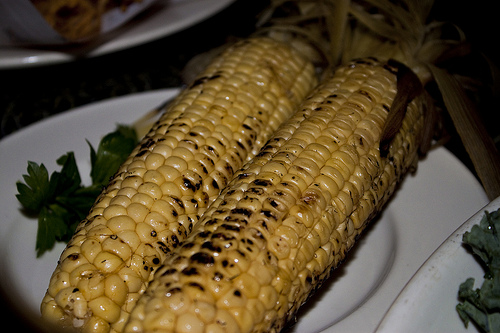corn: (41, 25, 440, 332)
